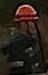helmet: (12, 4, 39, 25)
vest: (6, 33, 43, 74)
